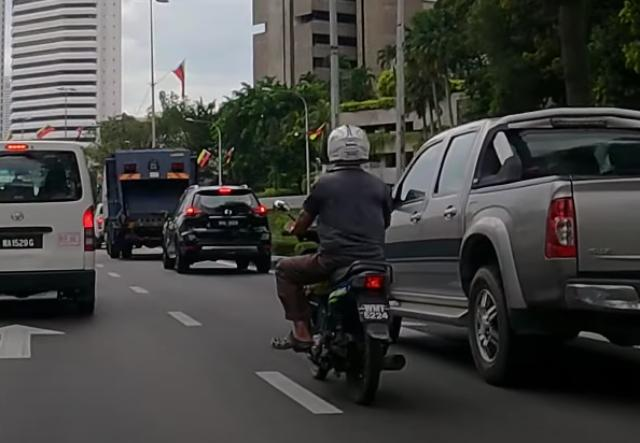License_Plate: (361, 304, 394, 325)
motorcycle: (272, 201, 407, 407)
